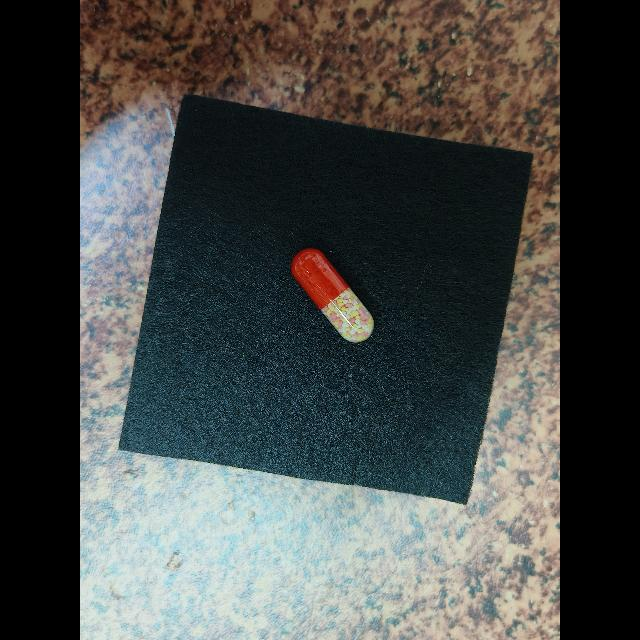Intact Capsule: (291, 248, 374, 343)
